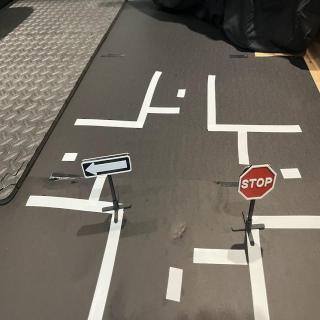sign_oneway_left: (80, 152, 136, 182)
